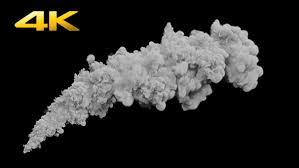smoke: (23, 45, 266, 157)
